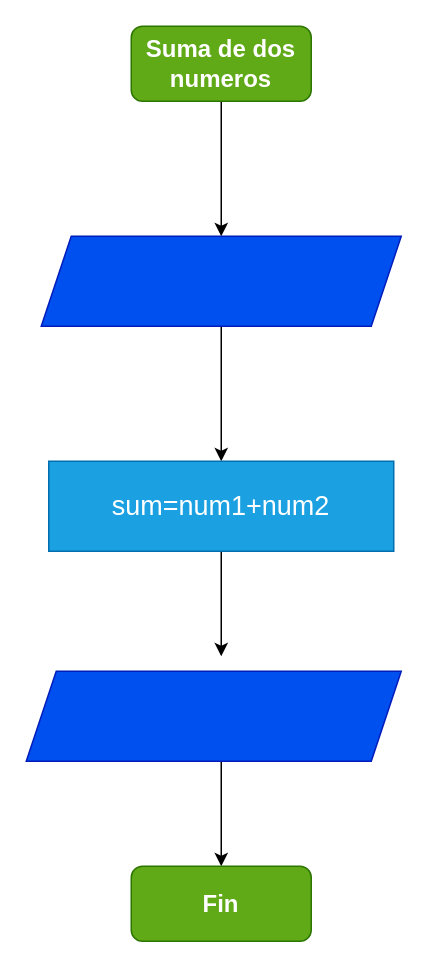
This 428x968 diagram has some shape labels left out. The shapes that lost their labels are listed below. From the top down, each one's centre as x and y in pixels, then its label:
At (220,280): "Leer num1 Leer num2".
At (213,715): "Escribir sum".
